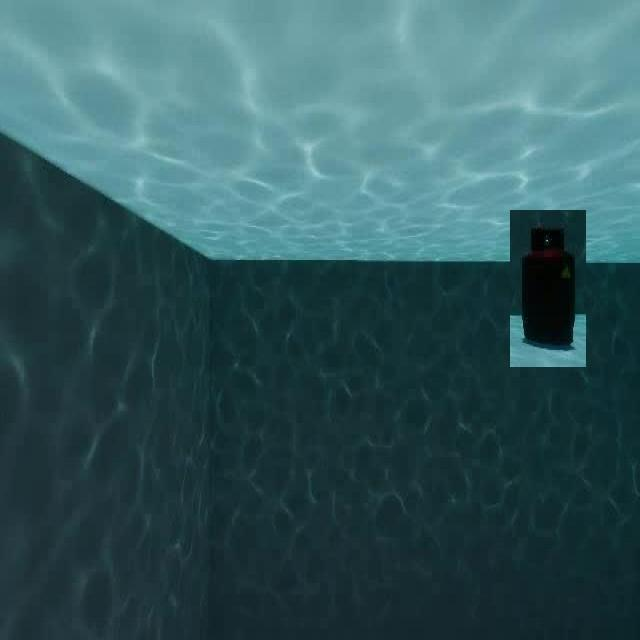Cylinder: (510, 210, 586, 367)
